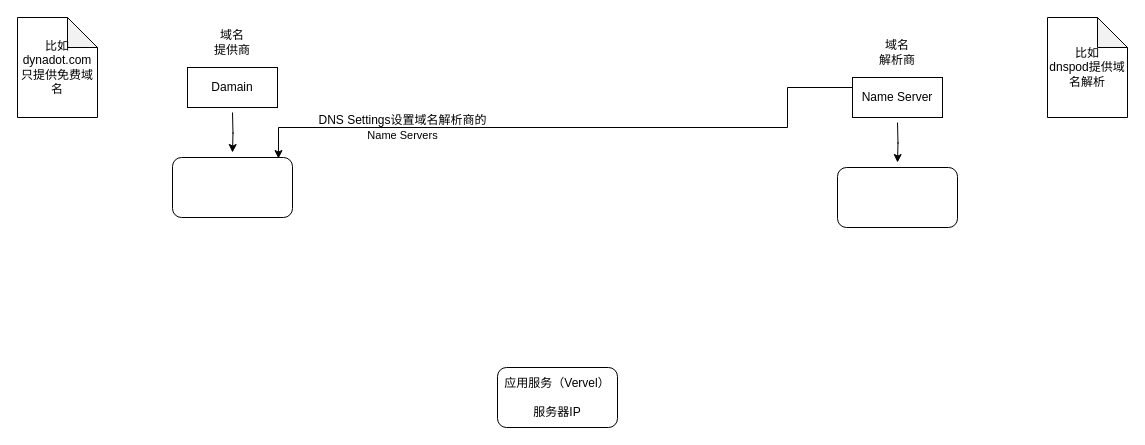
This 1145x445 diagram has some shape labels left out. The shapes that lost their labels are listed below. From the top down, each one's centre as x and y in pixels, then its label:
At point 232,187: "发放域名".
At point 897,197: "管理域名到服务IP的映射".
